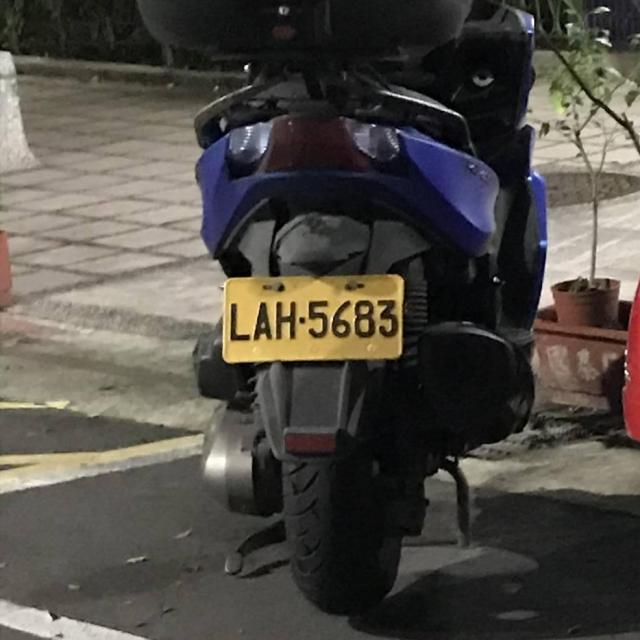Y: (214, 262, 414, 375)
